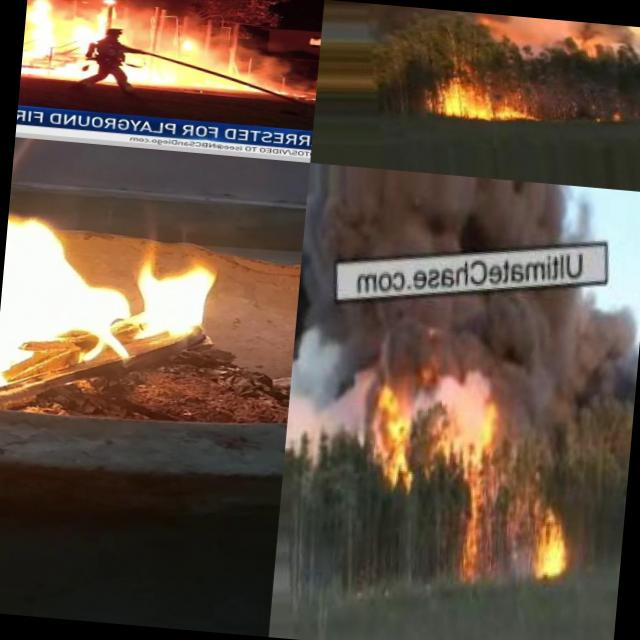fire: (0, 137, 246, 427), (356, 368, 510, 584), (428, 75, 538, 127), (524, 492, 574, 579), (22, 0, 68, 56), (119, 51, 176, 88), (20, 57, 82, 82), (584, 106, 629, 128), (173, 30, 204, 55)
smoke: (377, 305, 616, 408), (284, 328, 379, 464), (492, 14, 640, 67), (202, 40, 300, 80), (118, 4, 178, 52)
